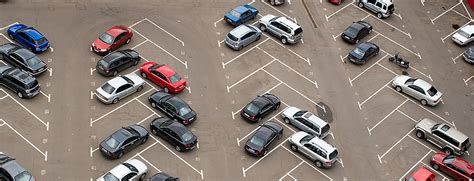car: (285, 127, 341, 170), (414, 112, 468, 155), (149, 114, 202, 154), (282, 102, 334, 142), (392, 71, 441, 112), (92, 68, 144, 104), (258, 10, 306, 49), (97, 124, 152, 158), (148, 88, 198, 125), (1, 39, 49, 75), (243, 120, 288, 157), (87, 48, 142, 77), (1, 63, 40, 102), (139, 59, 188, 90), (5, 21, 52, 50), (239, 93, 284, 121), (430, 149, 474, 177), (339, 15, 374, 49), (90, 24, 134, 50), (348, 39, 380, 71), (223, 27, 265, 51), (222, 5, 259, 23)
